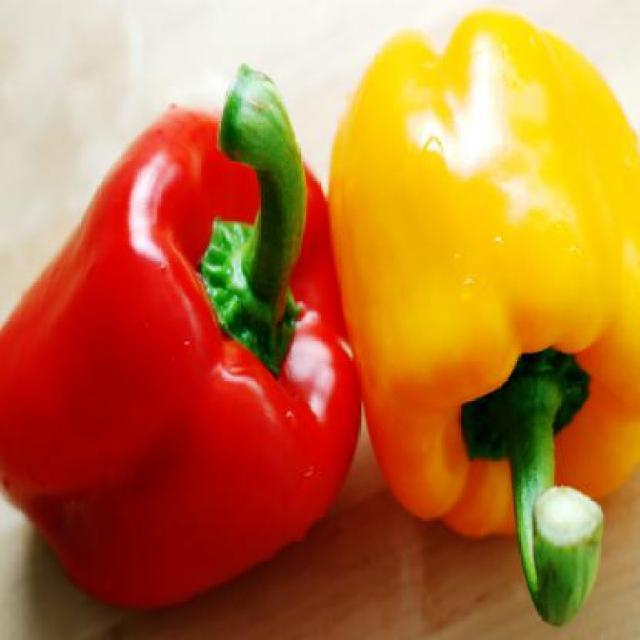Bell pepper: (0, 63, 362, 611), (330, 4, 638, 630)
